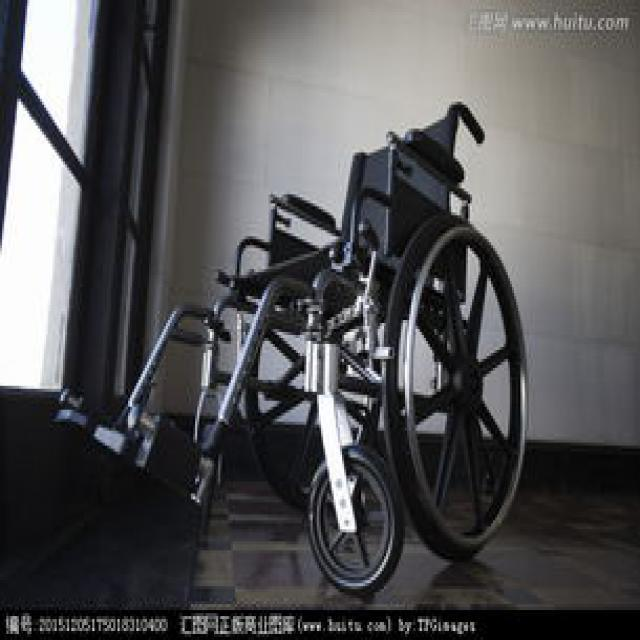wheelchair: (50, 92, 529, 596)
